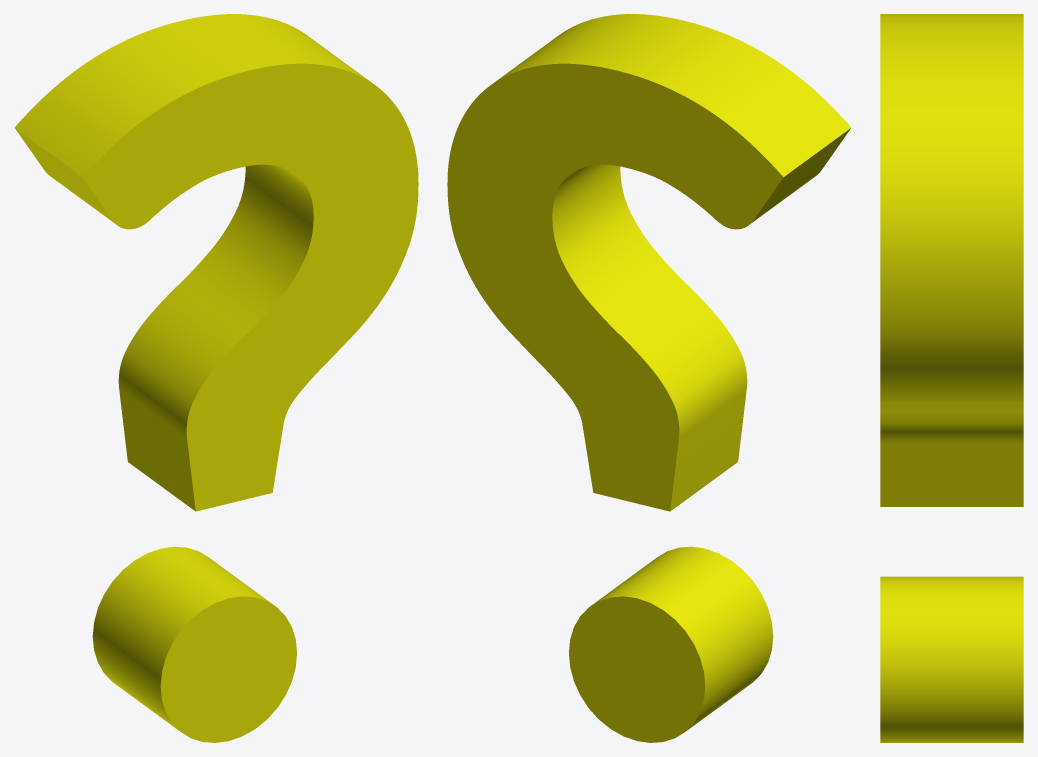
The model's file is questionmark.fbx.
3 renders of one model, left to right at view 1: azimuth 30°, elevation 25°; view 2: azimuth 150°, elevation 25°; view 3: azimuth 270°, elevation 25°, orthographic. The views are drawn at different scales.
Visible parts, largest first — view 1: Text.001; view 2: Text.001; view 3: Text.001.
Part boxes in pixels (x1,y1,x2,y2): Text.001: (14,14,418,742); Text.001: (447,14,851,742); Text.001: (880,14,1023,742).
Bounding box in the file's own units: 28.57 × 54.06 × 10.
